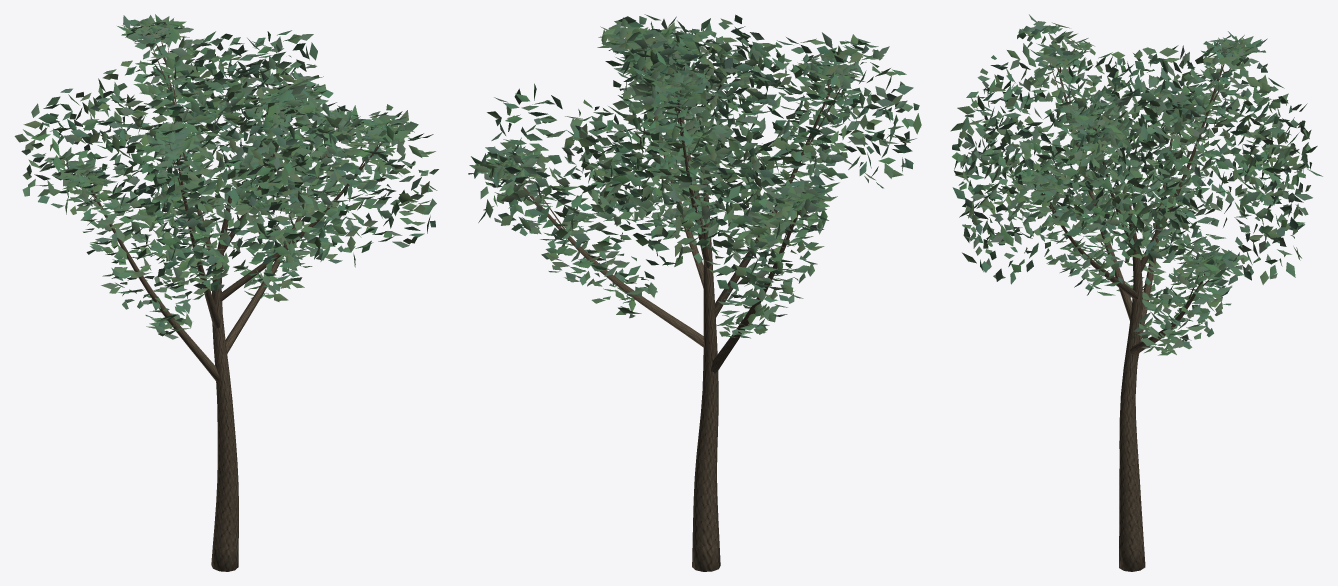
File: quay-banyan-b.glb
The picture shows the model from 3 angles, left to right: view 1: azimuth 30°, elevation 25°; view 2: azimuth 150°, elevation 25°; view 3: azimuth 270°, elevation 25°; orthographic projection. The views are drawn at different scales.
Visible parts, largest first — view 1: leaves, bark; view 2: leaves, bark; view 3: leaves, bark.
Boxes of the visible parts, left/top/right/bottom form: leaves: left=14, top=14, right=438, bottom=339; bark: left=90, top=40, right=386, bottom=571; leaves: left=468, top=14, right=921, bottom=338; bark: left=497, top=62, right=855, bottom=571; leaves: left=950, top=14, right=1322, bottom=355; bark: left=1036, top=37, right=1230, bottom=571.
Size of the model in its own units: 7.53 by 11.49 by 7.59.
2 materials, 1 textured.
